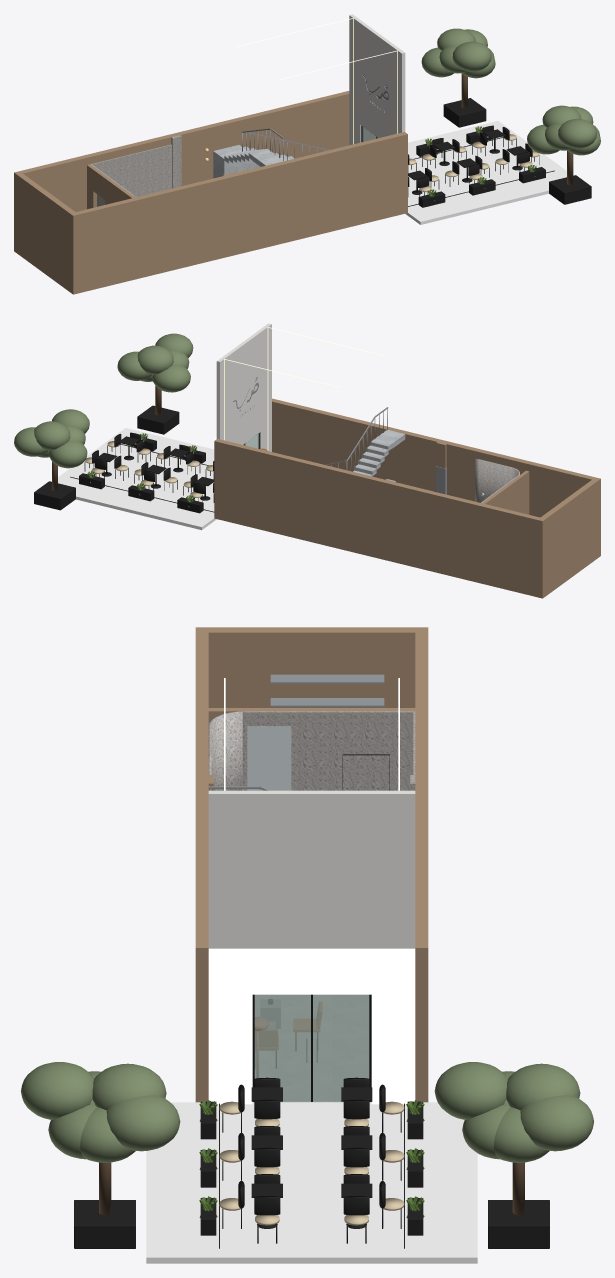
File: walk-ground.e59a93d752.glb
The picture shows the model from 3 angles, top to bottom: view 1: azimuth 30°, elevation 25°; view 2: azimuth 150°, elevation 25°; view 3: azimuth 270°, elevation 25°; orthographic projection. The views are drawn at different scales.
Parts seen in each view (by area): view 1: wall_side_b, wall_side_t, out_floor, wall_back, fw_top, zclad, fw_right, fw_left, canopy.012, canopy.005, tree_box.001, tree_box (+9 smaller); view 2: wall_side_t, wall_side_b, out_floor, wall_back, fw_top, fw_left, fw_right, zebra_curve, part, tree_box, tree_box.001, canopy.009 (+7 smaller); view 3: out_floor, fw_top, wall_back, door_glass, zclad_part, floor_marble, fw_left, fw_right, neon_left, neon_right, wall_side_b, wall_side_t (+18 smaller).
Part boxes in pixels (<box>): wall_side_b: <box>76,132,407,293</box>; wall_side_t: <box>20,91,349,211</box>; out_floor: <box>405,121,566,224</box>; wall_back: <box>14,171,78,294</box>; fw_top: <box>360,22,393,137</box>; zclad: <box>91,144,171,196</box>; fw_right: <box>349,14,363,145</box>; fw_left: <box>390,45,405,134</box>; canopy.012: <box>452,41,491,71</box>; canopy.005: <box>558,119,596,148</box>; tree_box.001: <box>443,98,486,127</box>; tree_box: <box>549,175,591,204</box>; wall_side_t: <box>214,439,539,596</box>; wall_side_b: <box>272,398,594,517</box>; out_floor: <box>58,428,216,530</box>; wall_back: <box>537,477,600,598</box>; fw_top: <box>228,331,260,444</box>; fw_left: <box>258,323,271,451</box>; fw_right: <box>216,353,230,441</box>; zebra_curve: <box>475,458,519,502</box>; part: <box>493,470,529,514</box>; tree_box: <box>137,405,179,434</box>; tree_box.001: <box>34,481,75,510</box>; canopy.009: <box>34,421,70,450</box>; out_floor: <box>146,1102,477,1263</box>; fw_top: <box>252,790,371,948</box>; wall_back: <box>195,627,428,707</box>; door_glass: <box>254,994,369,1101</box>; zclad_part: <box>242,711,413,790</box>; floor_marble: <box>253,995,371,1102</box>; fw_left: <box>208,790,252,948</box>; fw_right: <box>371,790,415,948</box>; neon_left: <box>208,948,252,1104</box>; neon_right: <box>371,948,415,1104</box>; wall_side_b: <box>195,632,208,1102</box>; wall_side_t: <box>415,632,428,1102</box>.
Bounding box in the file's own units: 22.08 × 6.72 × 11.08.
43 materials, 3 textured.
